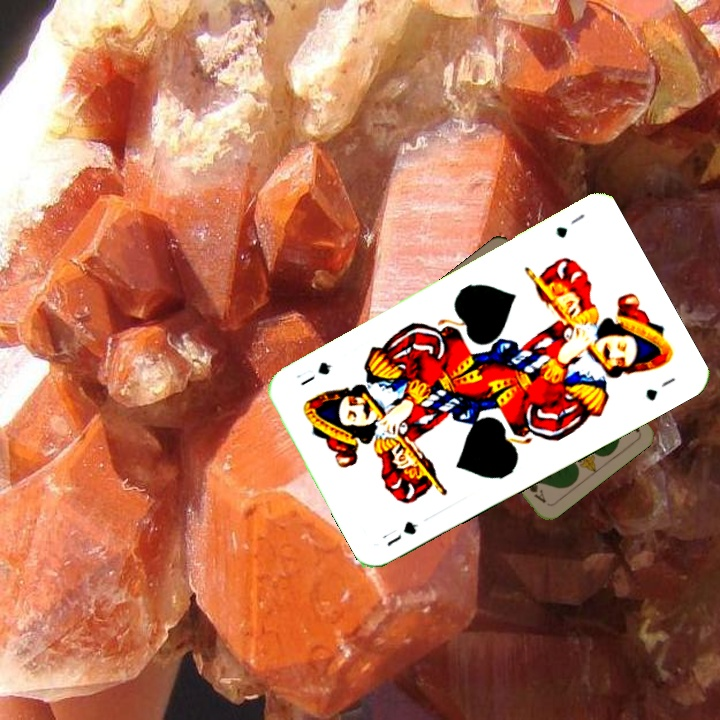GU: (382, 516, 420, 549), (551, 209, 587, 241)
